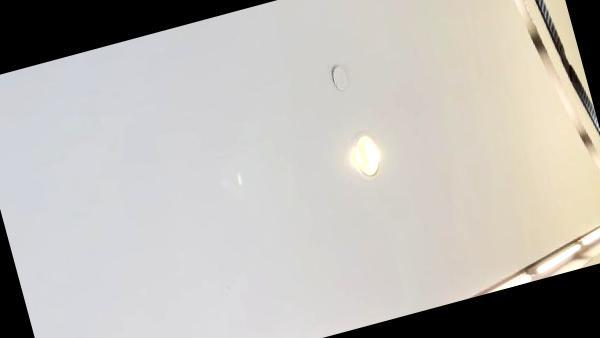light_on: (453, 262, 536, 301), (339, 125, 391, 186), (526, 236, 588, 277), (576, 219, 600, 252)
